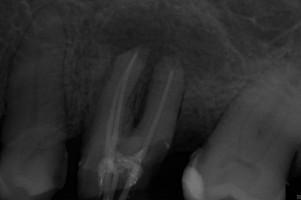Dental Caries: (92, 10, 237, 129)
